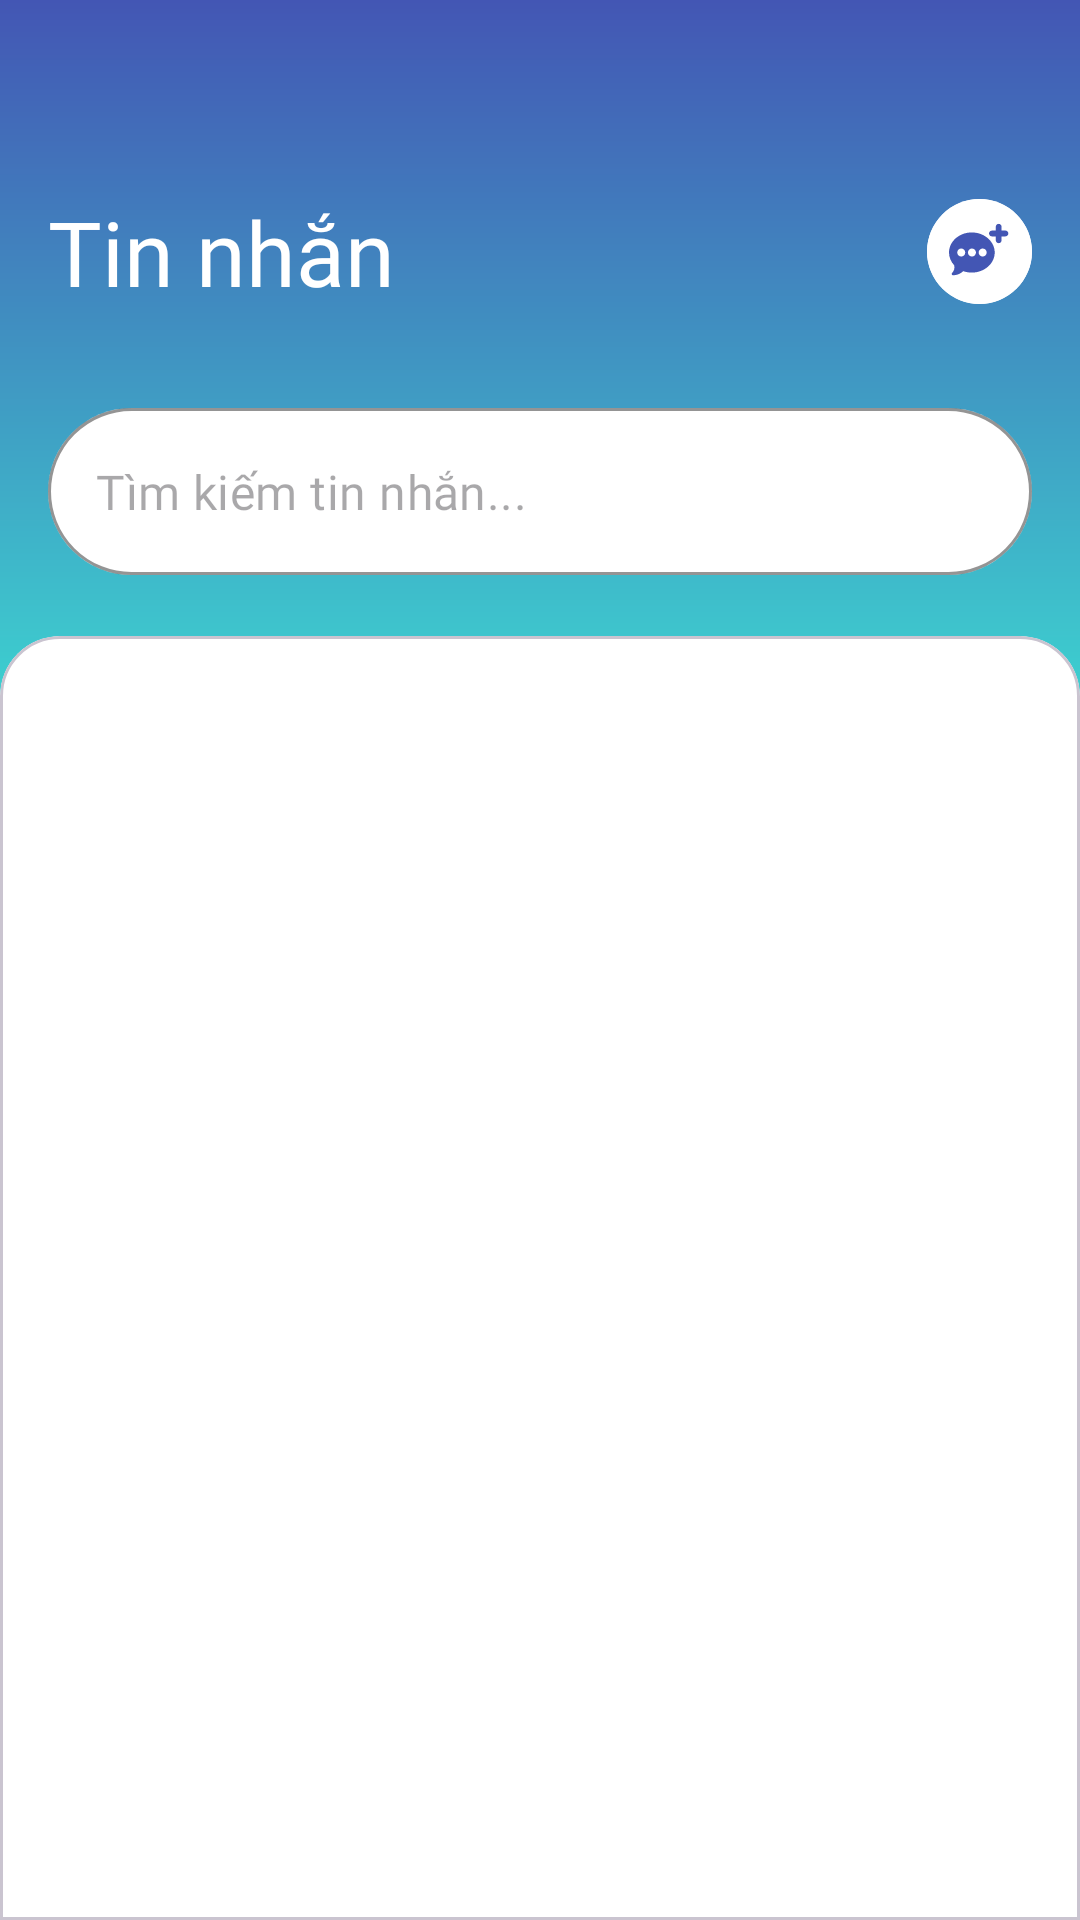

Where to tap for icons on this 1080px x 1920px app screen, as (x,y):
Tạo cuộc trò chuyện mới: (979,251)
